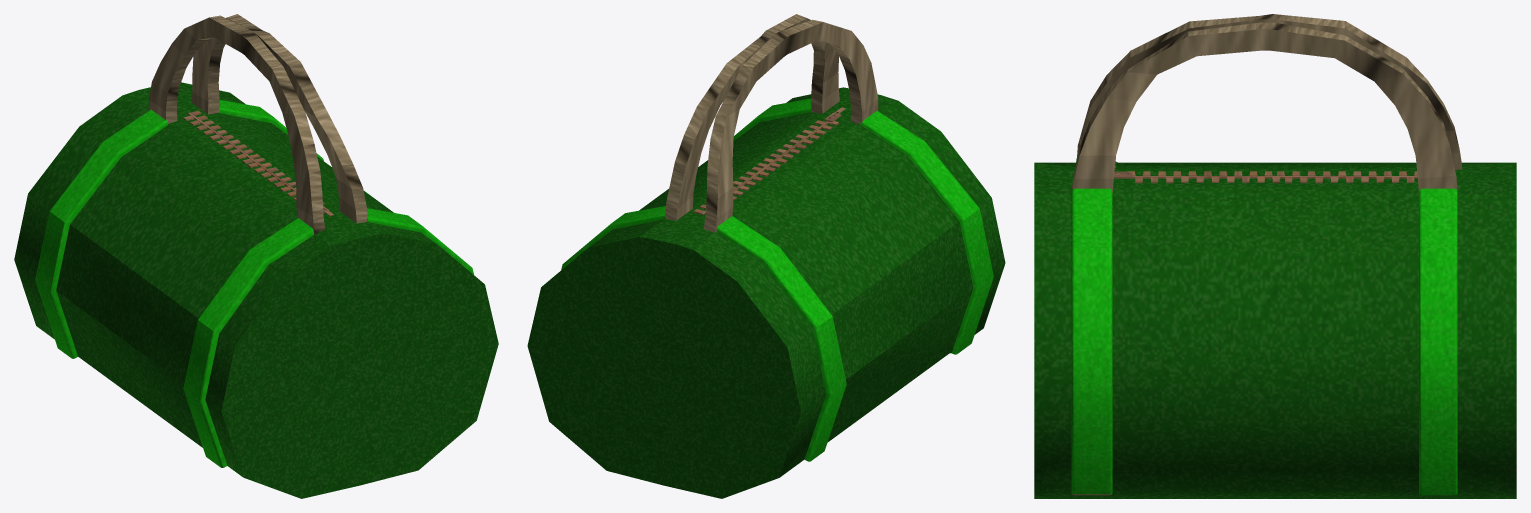
Rendered from folded tent.fbx.
The picture shows the model from 3 angles, left to right: view 1: azimuth 30°, elevation 25°; view 2: azimuth 150°, elevation 25°; view 3: azimuth 270°, elevation 25°; orthographic projection. The views are drawn at different scales.
Visible parts, largest first — view 1: folded_tent; view 2: folded_tent; view 3: folded_tent.
Boxes of the visible parts, x1,y1,x2,y2 form: folded_tent: [14, 14, 498, 498]; folded_tent: [527, 14, 1005, 498]; folded_tent: [1034, 14, 1516, 498].
Size of the model in its own units: 45.29 by 57.24 by 56.38.
